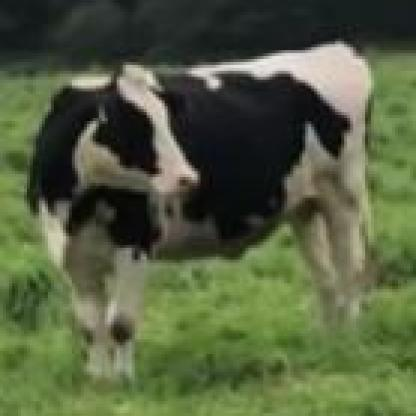cow: (24, 40, 374, 382)
